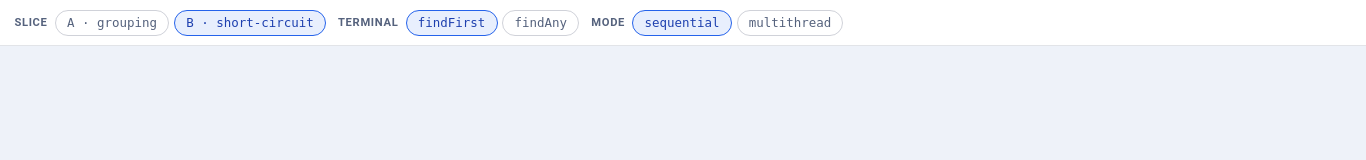
Test: S4.4 parallel terminal toggle — the findFirst⇄findAny contrast (chrome) › Slice B parallel shows the ordered-vs-first-home hint by the terminal toggle
expect the text "ordered vs first-home" is not shown: met
Click the button "multithread" at (790, 23), box [736, 10, 844, 36]
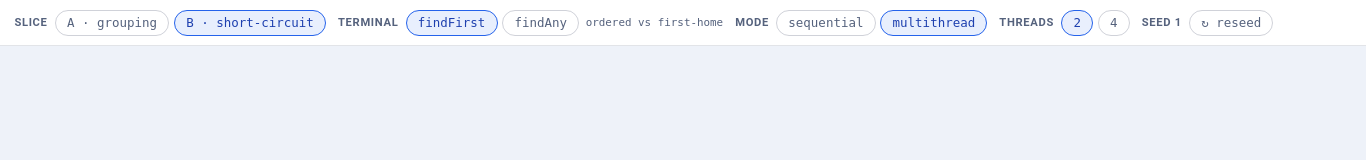
expect the text "ordered vs first-home" is shown: met, box [586, 16, 723, 29]
